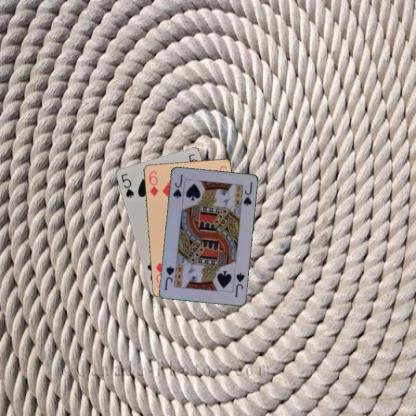5s: (119, 170, 136, 199)
6d: (146, 168, 160, 198)
Js: (170, 172, 184, 200), (232, 270, 246, 298)
